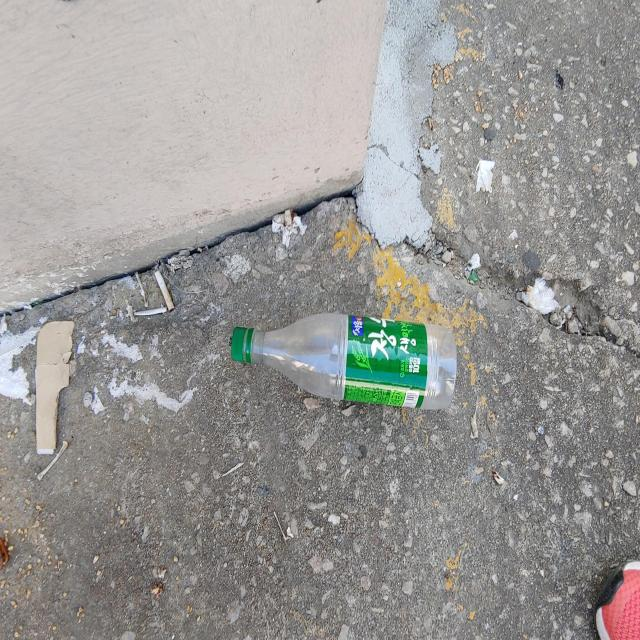plastic: (231, 313, 457, 410)
